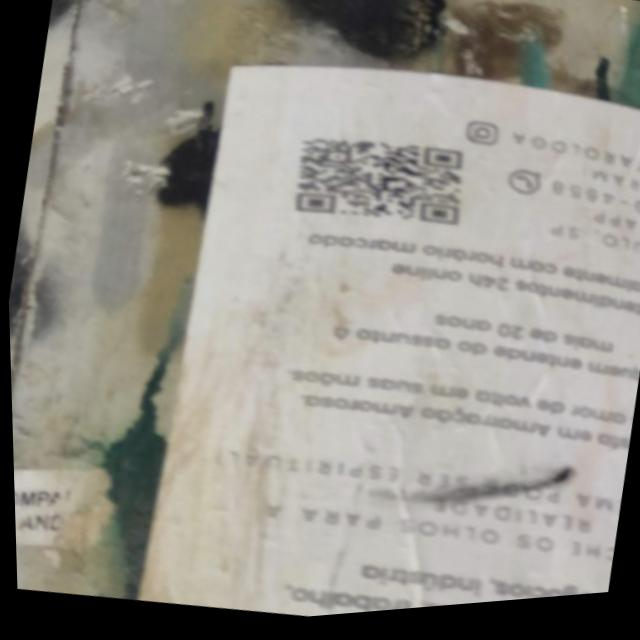qrcode: (291, 129, 468, 244)
